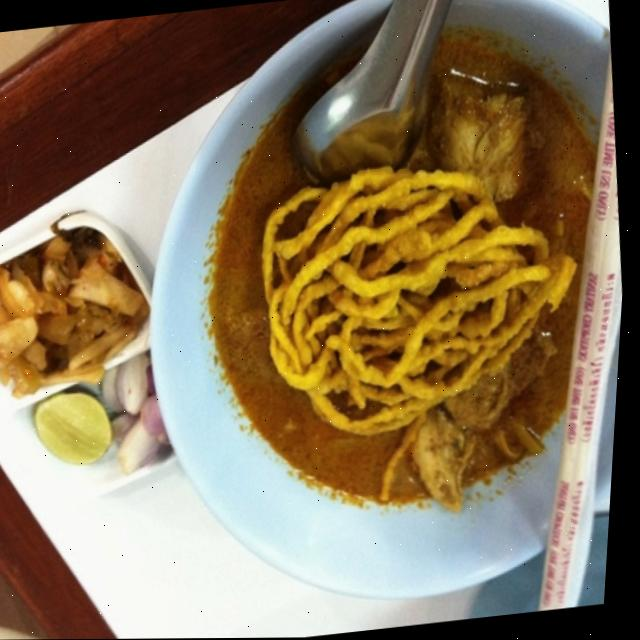面条主食: (157, 5, 640, 561)
